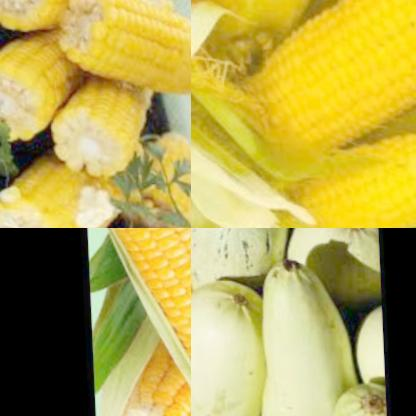corn: (191, 0, 416, 160), (224, 98, 416, 228), (88, 228, 191, 416), (64, 0, 191, 98), (53, 79, 156, 184), (191, 0, 400, 48), (0, 23, 76, 152), (0, 166, 124, 228), (112, 331, 191, 416), (0, 0, 114, 32)
vegetable marrow: (223, 250, 355, 416), (191, 261, 278, 416), (191, 228, 296, 308), (273, 228, 378, 303), (330, 275, 381, 381), (322, 364, 384, 416)
